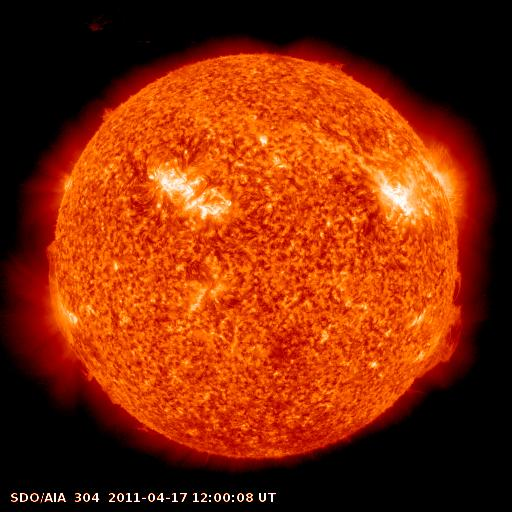prominence: (36, 239, 102, 385), (408, 266, 470, 386), (311, 50, 355, 81), (100, 98, 123, 128)
